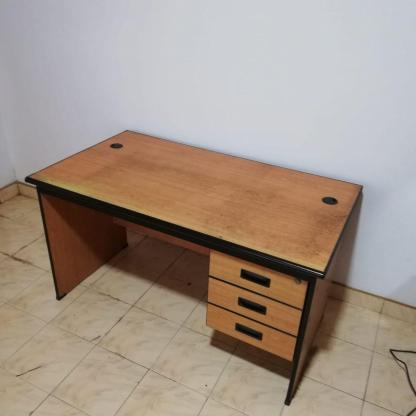Table: (21, 122, 379, 406)
